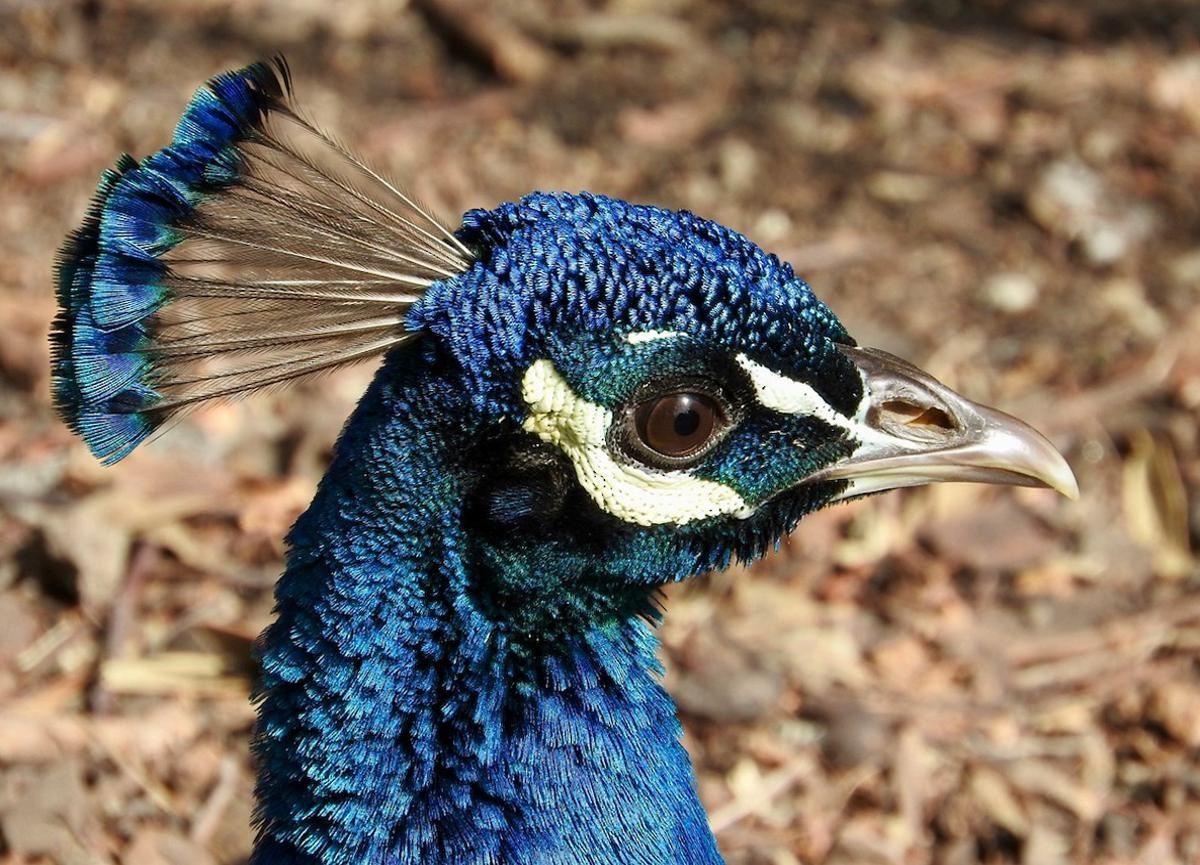peacock: (50, 42, 1068, 865)
